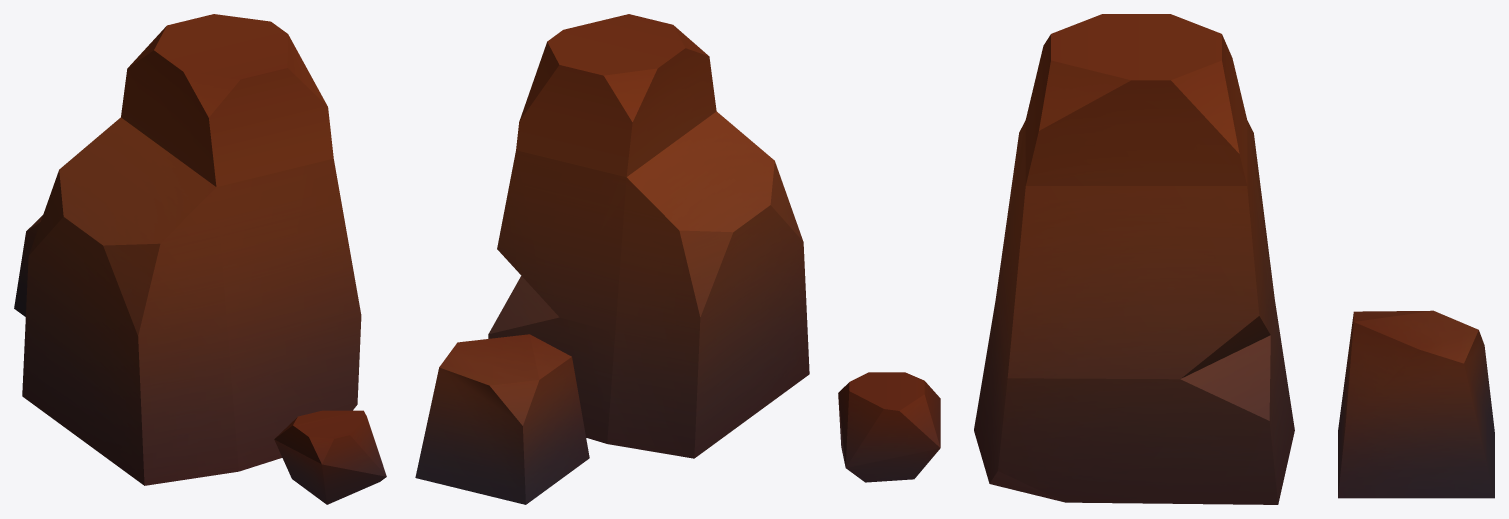
The model's file is rocks.fbx.
The picture shows the model from 3 angles, left to right: view 1: azimuth 30°, elevation 25°; view 2: azimuth 150°, elevation 25°; view 3: azimuth 270°, elevation 25°; orthographic projection. The views are drawn at different scales.
Parts seen in each view (by area): view 1: rock_2, rock_1, rock_3; view 2: rock_2, rock_3; view 3: rock_2, rock_3, rock_1.
Boxes of the visible parts, x1,y1,x2,y2 form: rock_2: (22, 14, 361, 485); rock_1: (274, 410, 386, 504); rock_3: (14, 215, 42, 316); rock_2: (488, 14, 809, 458); rock_3: (415, 334, 589, 504); rock_2: (974, 14, 1294, 504); rock_3: (1338, 310, 1494, 498); rock_1: (838, 372, 940, 482).
Bounding box in the file's own units: 1.91 × 2.94 × 4.18.
